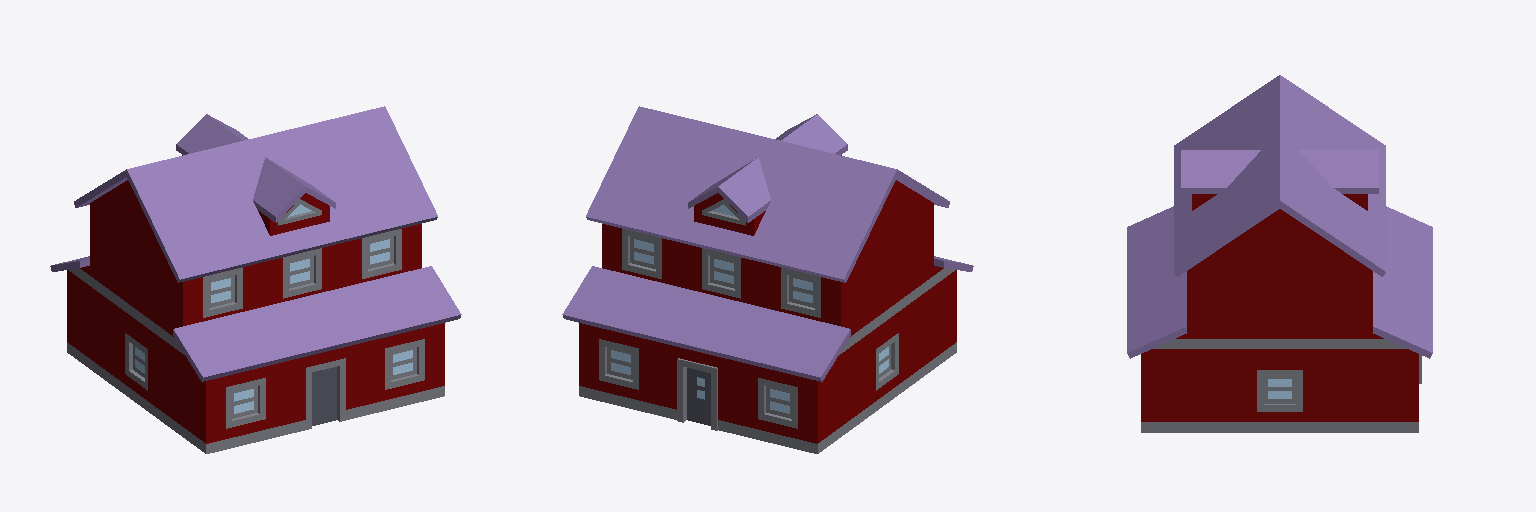
File: insta_residential_brick_2.obj
3 views of the same model, side by side, from view 1: azimuth 30°, elevation 25°; view 2: azimuth 150°, elevation 25°; view 3: azimuth 270°, elevation 25° (orthographic).
Parts seen in each view (by area): view 1: city_residential_2_roof(Clone), city_residential_2__defaultMat(Clone), city_residential_2_border(Clone), city_residential_2_window(Clone), city_residential_2_door(Clone); view 2: city_residential_2_roof(Clone), city_residential_2__defaultMat(Clone), city_residential_2_border(Clone), city_residential_2_window(Clone), city_residential_2_door(Clone); view 3: city_residential_2_roof(Clone), city_residential_2__defaultMat(Clone), city_residential_2_border(Clone).
Boxes of the visible parts, <box> form: city_residential_2_roof(Clone): <box>50,106,461,381</box>; city_residential_2__defaultMat(Clone): <box>67,155,444,443</box>; city_residential_2_border(Clone): <box>67,199,444,453</box>; city_residential_2_window(Clone): <box>135,204,412,413</box>; city_residential_2_door(Clone): <box>312,367,336,425</box>; city_residential_2_roof(Clone): <box>562,106,973,381</box>; city_residential_2__defaultMat(Clone): <box>579,155,956,443</box>; city_residential_2_border(Clone): <box>579,199,956,453</box>; city_residential_2_window(Clone): <box>611,204,888,413</box>; city_residential_2_door(Clone): <box>687,368,710,425</box>; city_residential_2_roof(Clone): <box>1127,75,1432,358</box>; city_residential_2__defaultMat(Clone): <box>1141,194,1418,421</box>; city_residential_2_border(Clone): <box>1141,339,1421,432</box>.
Size of the model in its own units: 0.936 by 0.819 by 0.9596.